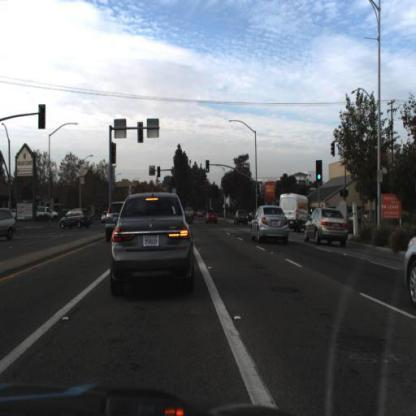car: (111, 198, 194, 292), (305, 206, 354, 257), (250, 197, 290, 249), (304, 206, 351, 249), (398, 224, 416, 309), (404, 235, 416, 316), (60, 205, 90, 229), (1, 204, 17, 242), (206, 208, 220, 229), (184, 201, 196, 224), (235, 208, 249, 226), (184, 206, 197, 224), (83, 211, 93, 224), (102, 210, 110, 223)
trafficLight: (39, 102, 47, 131), (110, 143, 118, 166), (137, 123, 144, 143), (330, 141, 337, 159)
trafficLight-Green: (315, 161, 323, 183), (205, 160, 213, 175), (170, 177, 177, 191), (157, 168, 162, 178)
truck: (280, 194, 311, 235), (276, 193, 306, 233)
